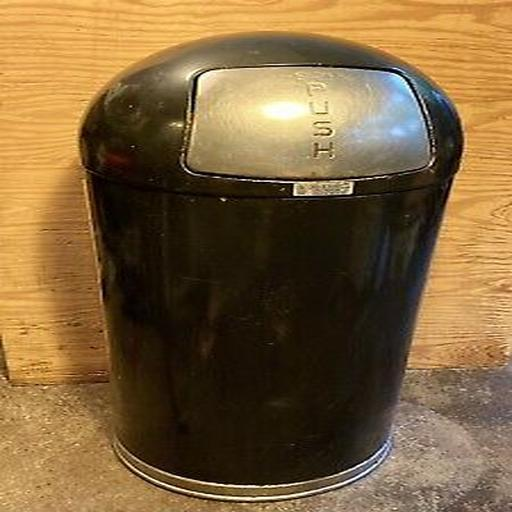Crewmate: (64, 22, 468, 505)
